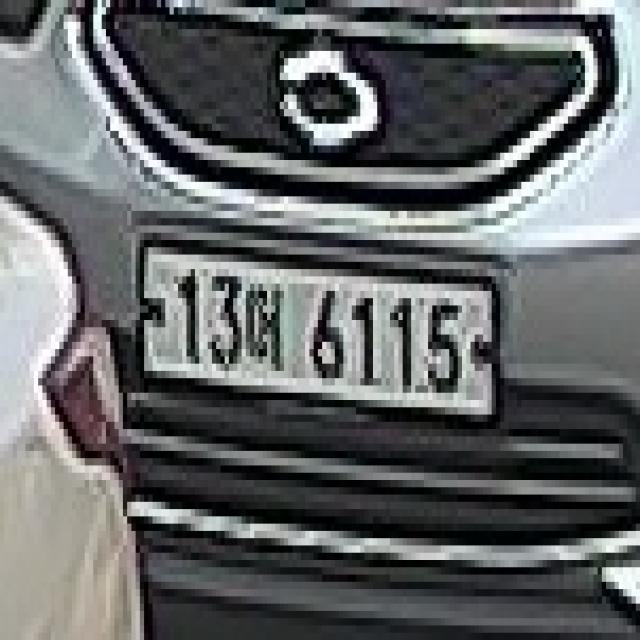plat: (138, 242, 502, 417)
